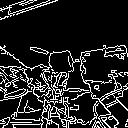cube: (43, 48, 76, 76)
